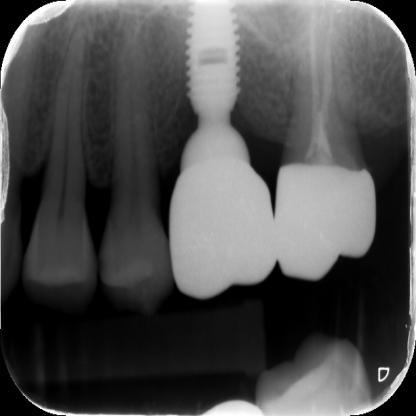Bicon: (172, 1, 257, 167)
